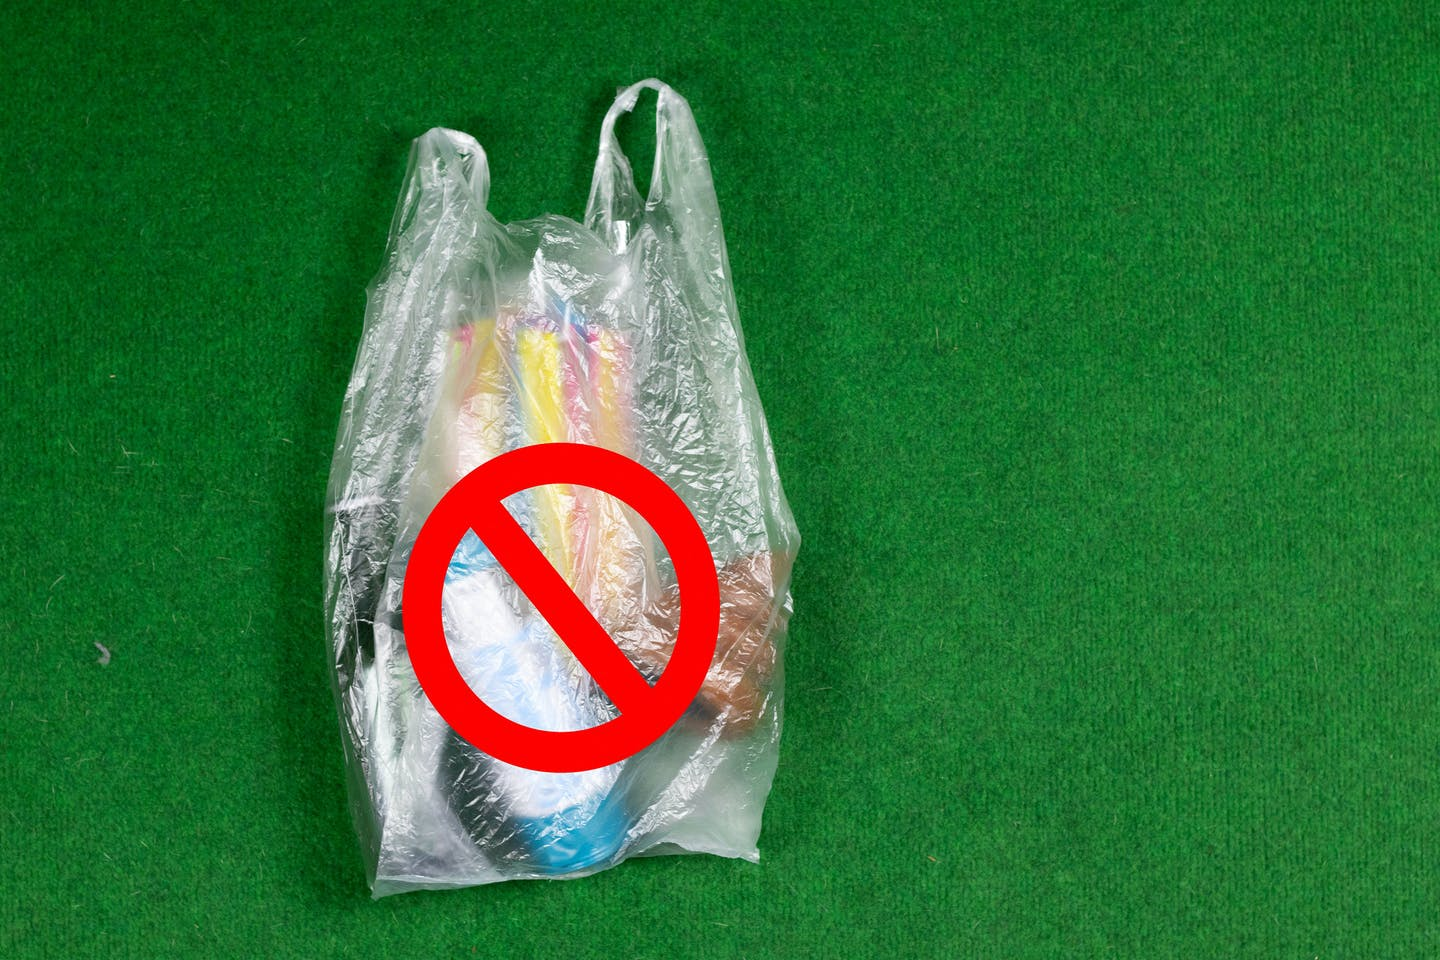plastic_bagwdw: (231, 86, 946, 950)
